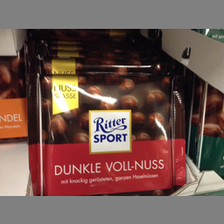chocolate: (26, 71, 186, 196)
